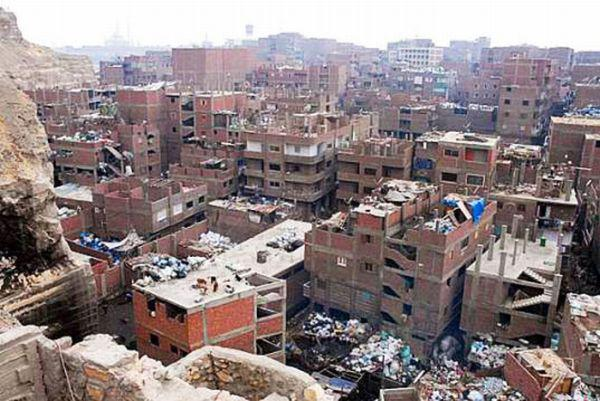Garbage: (422, 366, 508, 401), (358, 335, 408, 381), (309, 314, 368, 347), (126, 254, 202, 278), (469, 337, 515, 365)
